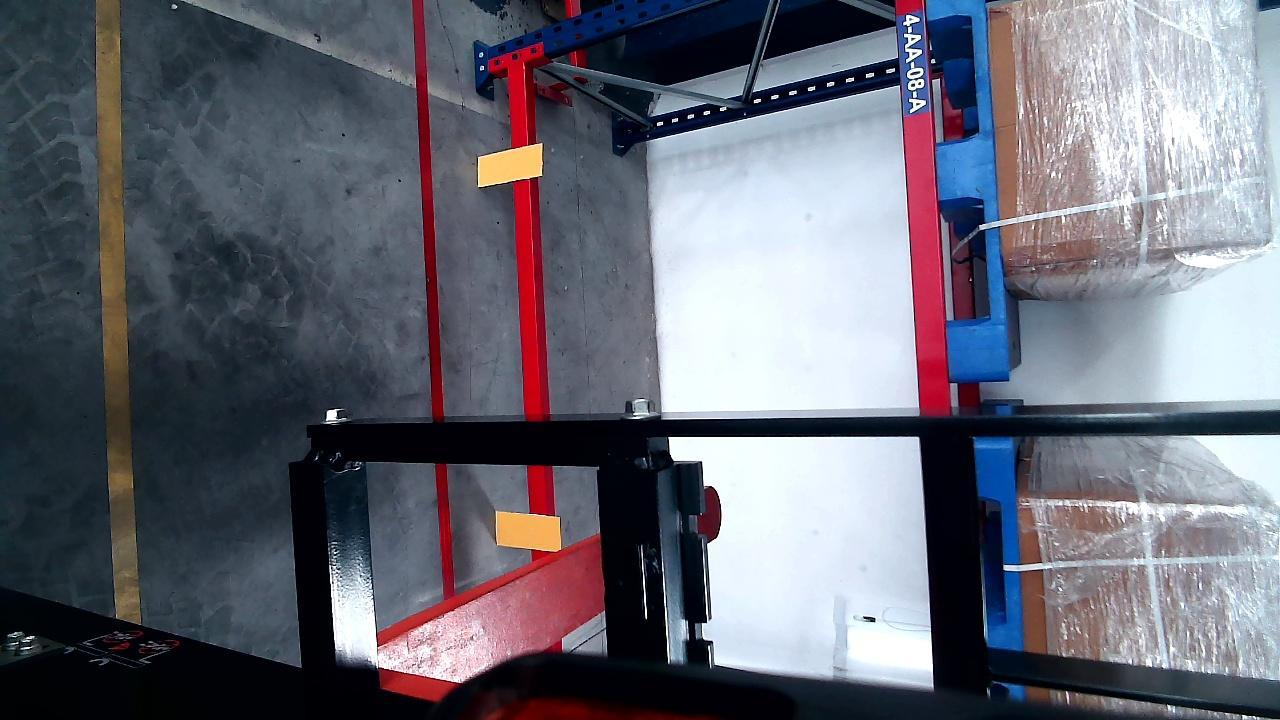red_line: (409, 0, 456, 602)
yellow_line: (94, 0, 140, 626)
